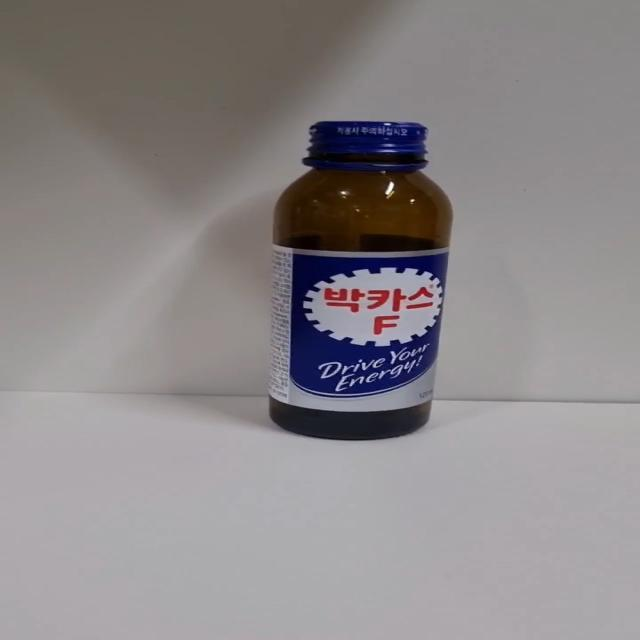Glass: (266, 121, 454, 443)
